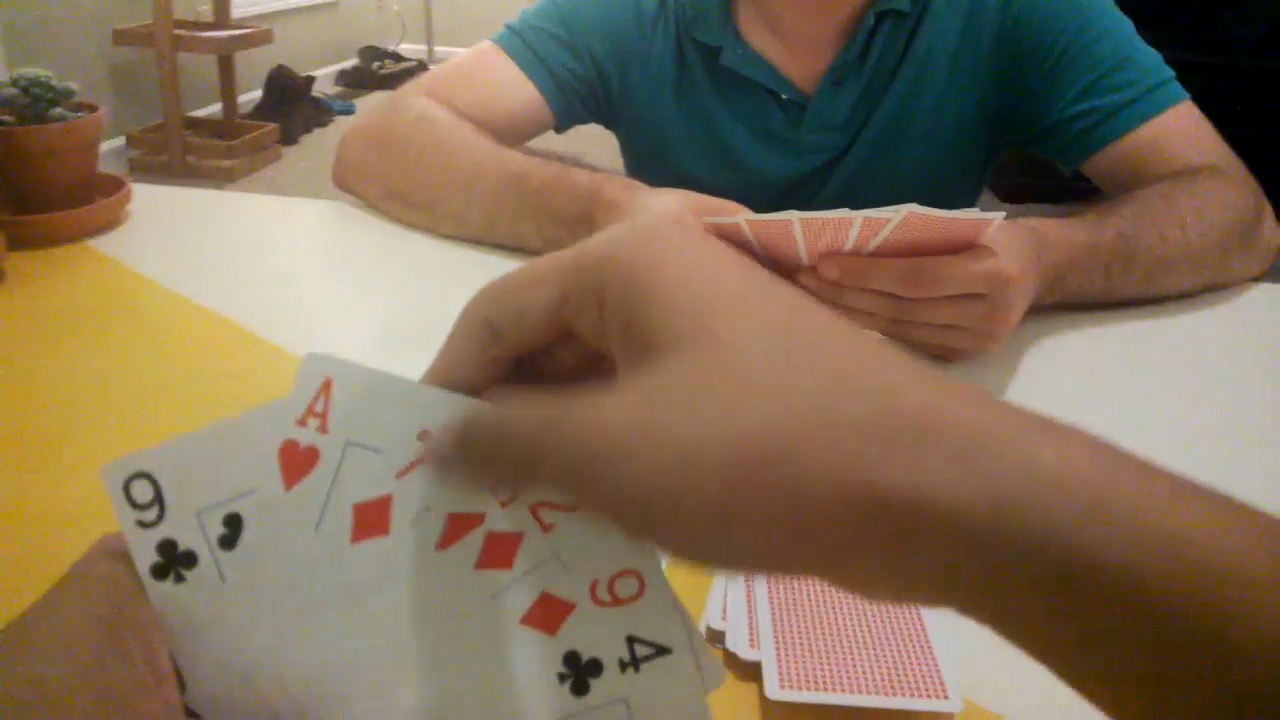hand: (424, 216, 998, 610), (1, 534, 186, 718), (799, 223, 1042, 361), (600, 187, 755, 235)
